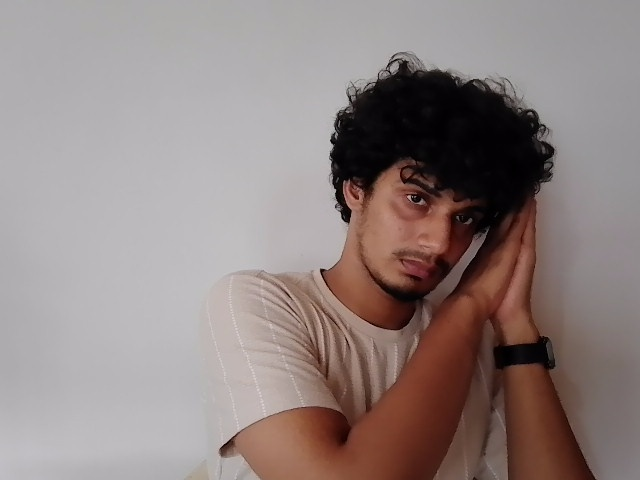sleep: (442, 188, 541, 317)
